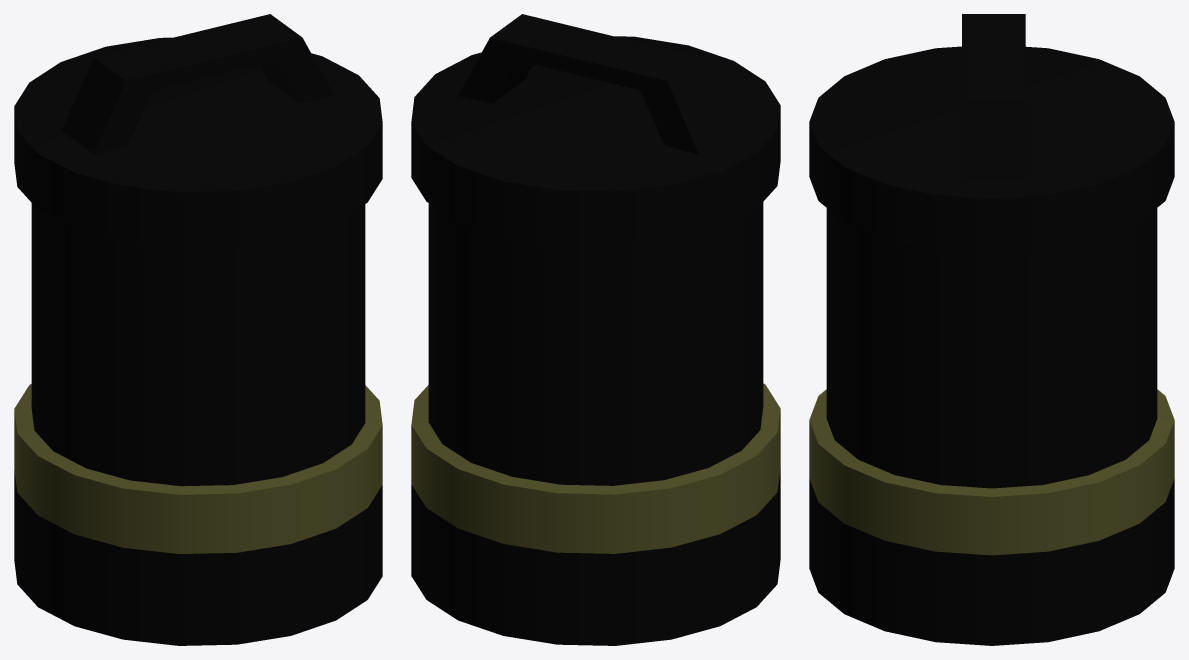
The model's file is lamparaSinLuz.fbx.
3 views of the same model, side by side, from view 1: azimuth 30°, elevation 25°; view 2: azimuth 150°, elevation 25°; view 3: azimuth 270°, elevation 25° (orthographic).
Parts seen in each view (by area): view 1: LamparaBaseSinLuz; view 2: LamparaBaseSinLuz; view 3: LamparaBaseSinLuz.
Boxes of the visible parts, <box> form: LamparaBaseSinLuz: <box>14,14,382,645</box>; LamparaBaseSinLuz: <box>411,14,780,645</box>; LamparaBaseSinLuz: <box>809,14,1174,645</box>.
Size of the model in its own units: 0.516 by 0.7991 by 0.516.
